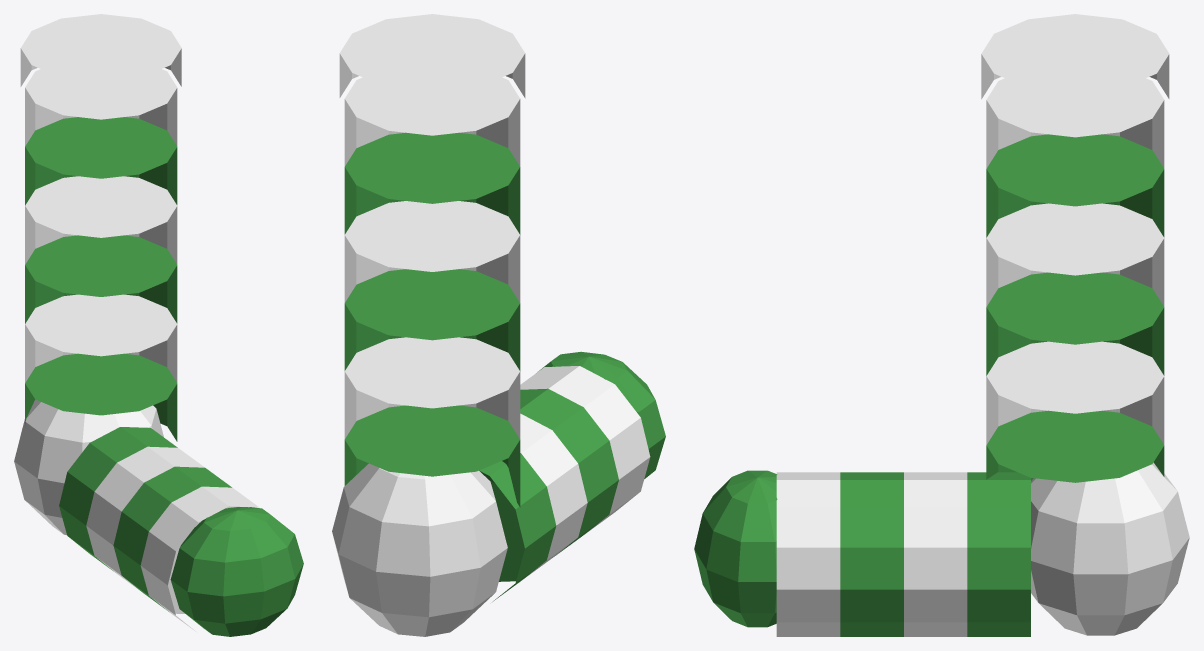
The model's file is strumpa.glb.
The picture shows the model from 3 angles, left to right: view 1: azimuth 30°, elevation 25°; view 2: azimuth 150°, elevation 25°; view 3: azimuth 270°, elevation 25°; orthographic projection. The views are drawn at different scales.
Parts seen in each view (by area): view 1: strumpa; view 2: strumpa; view 3: strumpa.
Part boxes in pixels (x1,y1,x2,y2): strumpa: (14, 14, 303, 636); strumpa: (332, 14, 665, 636); strumpa: (694, 14, 1189, 636).
Bounding box in the file's own units: 0.148 × 0.5 × 0.39.
